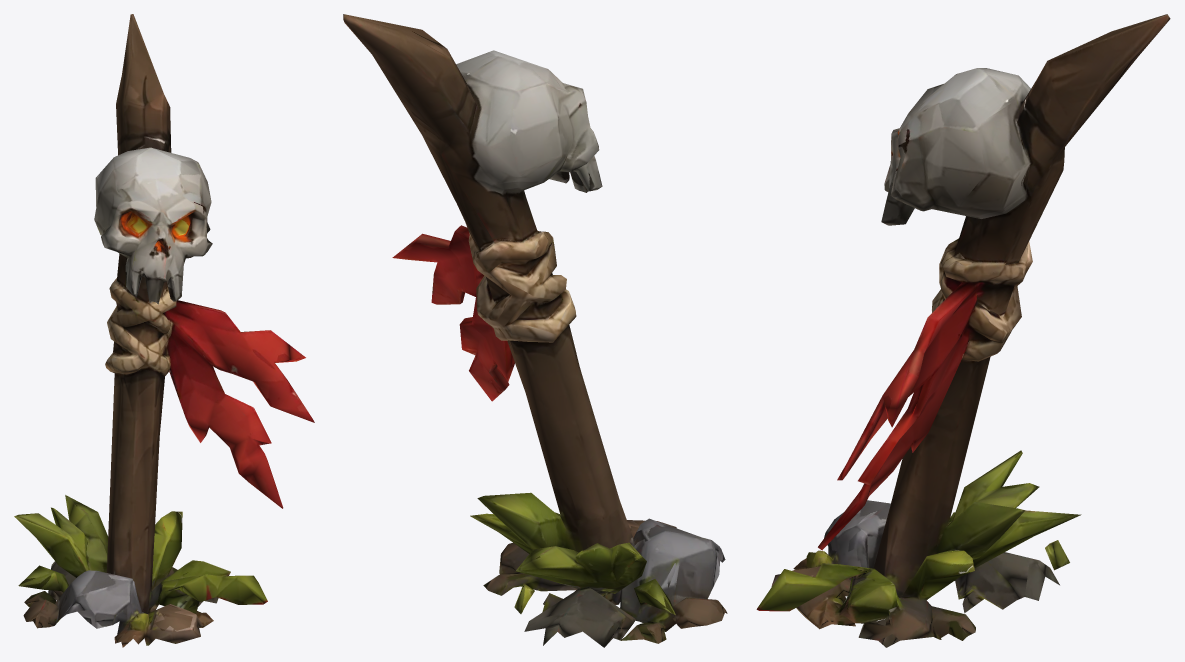
The model's file is dec_skull_pike.glb.
The picture shows the model from 3 angles, left to right: view 1: azimuth 30°, elevation 25°; view 2: azimuth 150°, elevation 25°; view 3: azimuth 270°, elevation 25°; orthographic projection. The views are drawn at different scales.
Parts seen in each view (by area): view 1: BakeLow; view 2: BakeLow; view 3: BakeLow.
Boxes of the visible parts, x1,y1,x2,y2 form: BakeLow: (14,14,314,647); BakeLow: (343,14,727,647); BakeLow: (756,14,1170,647).
Bounding box in the file's own units: 0.4735 × 0.843 × 0.486.
1 material, 1 textured.
